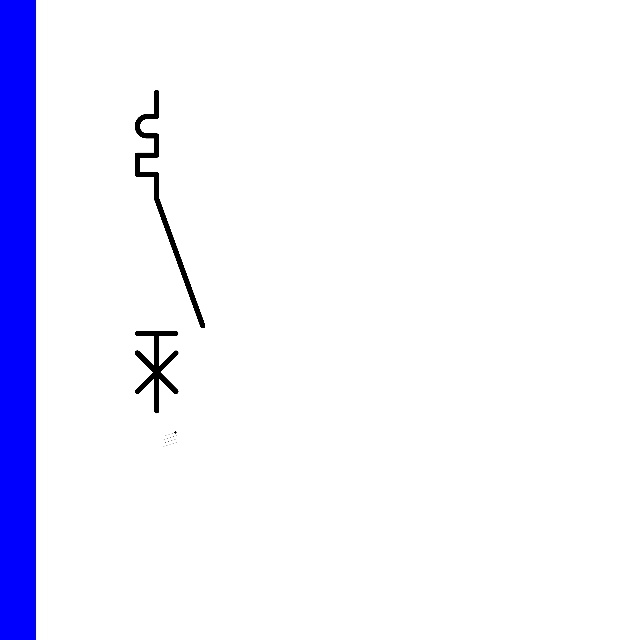interruptor_termomagnetico: (129, 84, 211, 419)
